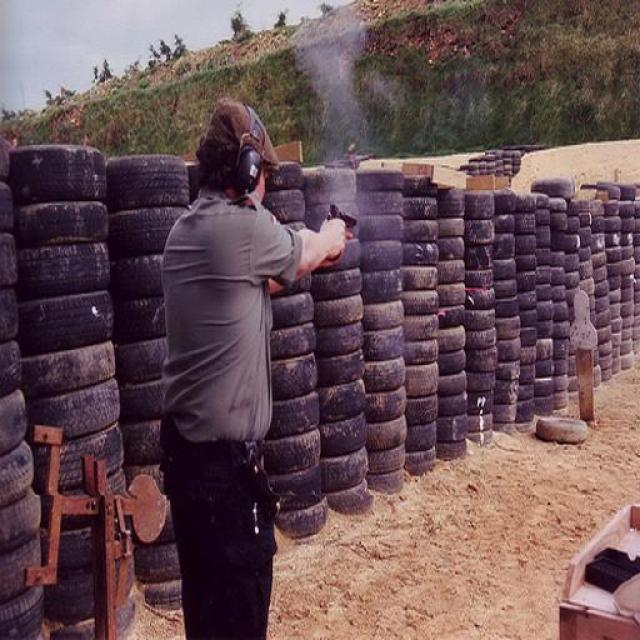pistol: (316, 193, 357, 261)
